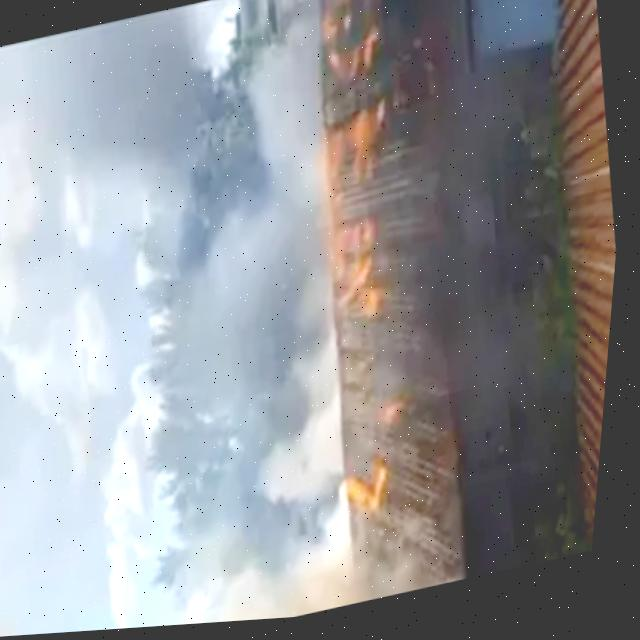Smoke: (183, 12, 363, 342), (0, 3, 227, 243), (5, 548, 426, 638), (227, 333, 374, 518)
